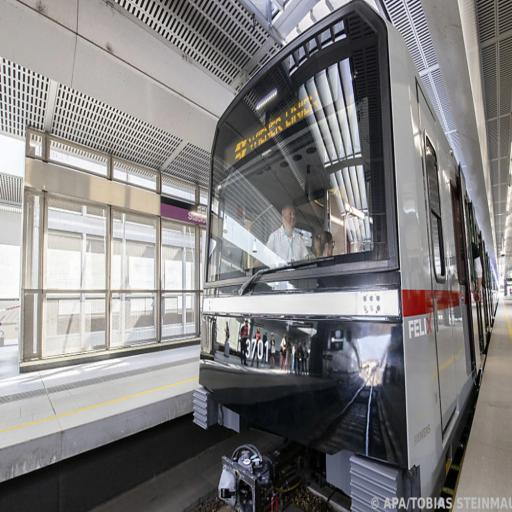X-Wagen: (193, 1, 501, 494)
